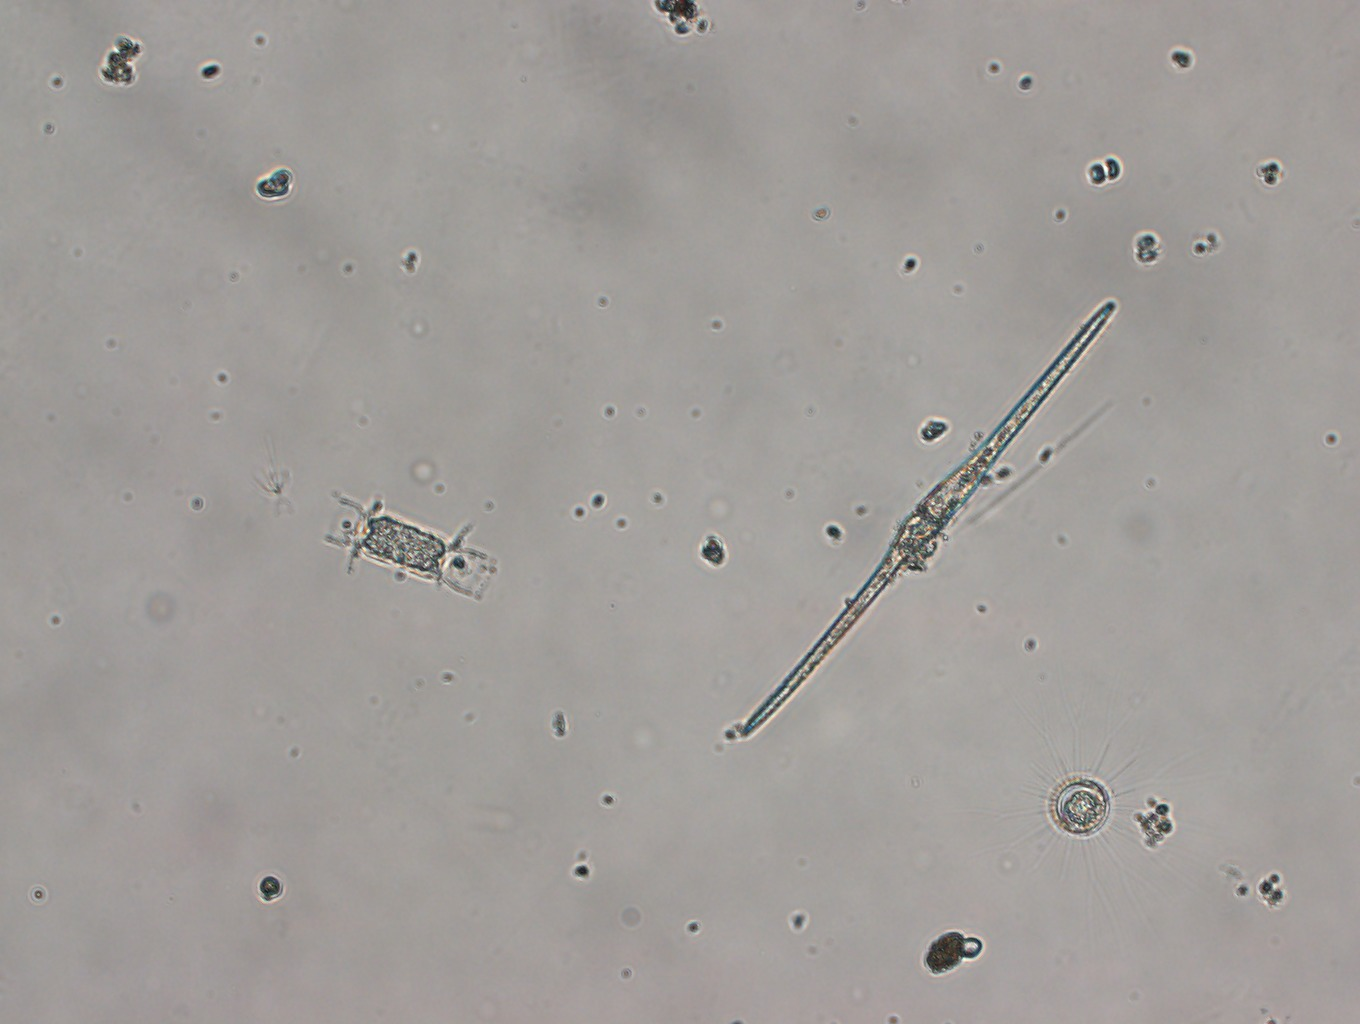ceratium fusus: (734, 297, 1120, 745)
chaetoceros: (323, 490, 503, 607)
